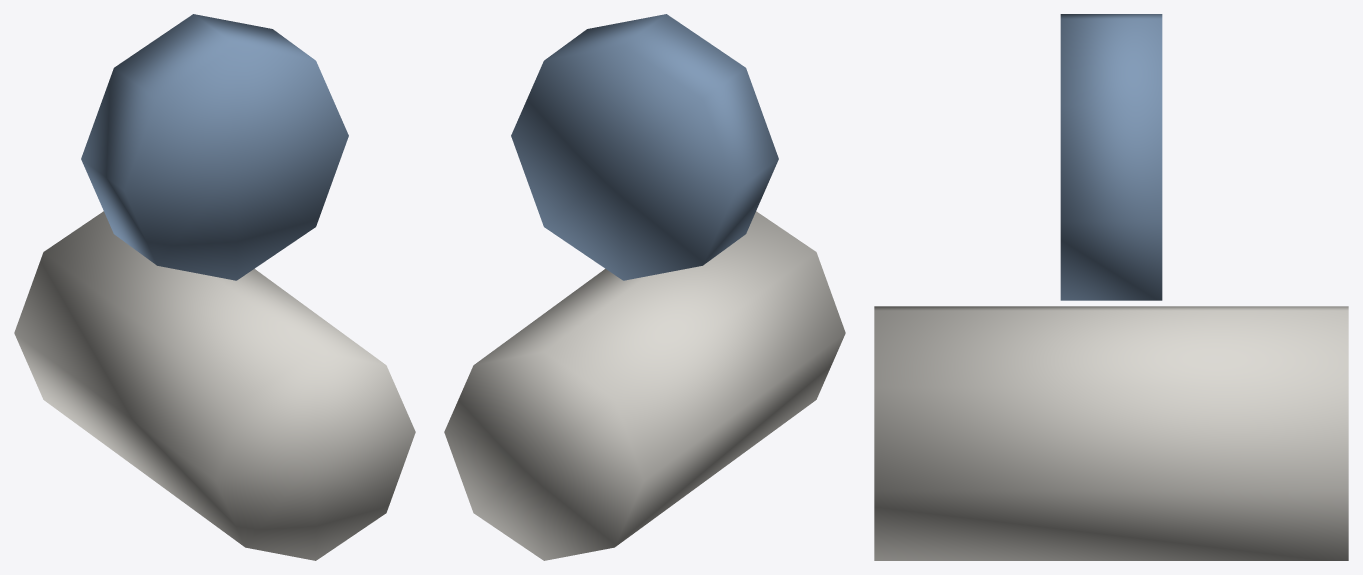
The model's file is prop_milk.glb.
The picture shows the model from 3 angles, left to right: view 1: azimuth 30°, elevation 25°; view 2: azimuth 150°, elevation 25°; view 3: azimuth 270°, elevation 25°; orthographic projection. The views are drawn at different scales.
Visible parts, largest first — view 1: bottle, cap; view 2: bottle, cap; view 3: bottle, cap.
Part boxes in pixels (left/top/right/bottom): bottle: left=14, top=211, right=415, bottom=560; cap: left=81, top=14, right=348, bottom=280; bottle: left=444, top=211, right=845, bottom=560; cap: left=511, top=14, right=778, bottom=280; bottle: left=874, top=306, right=1348, bottom=560; cap: left=1060, top=14, right=1162, bottom=300.
Bounding box in the file's own units: 0.09 × 0.175 × 0.14.
